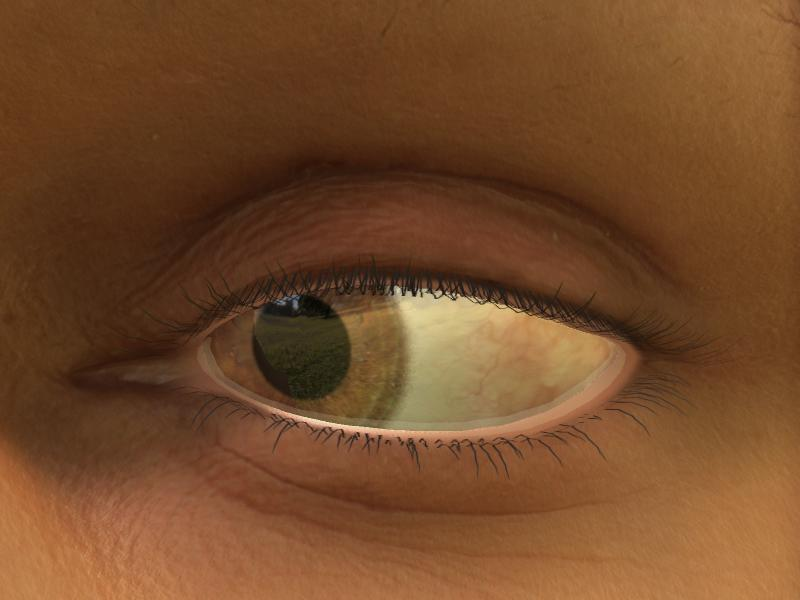eye: (205, 286, 409, 429)
